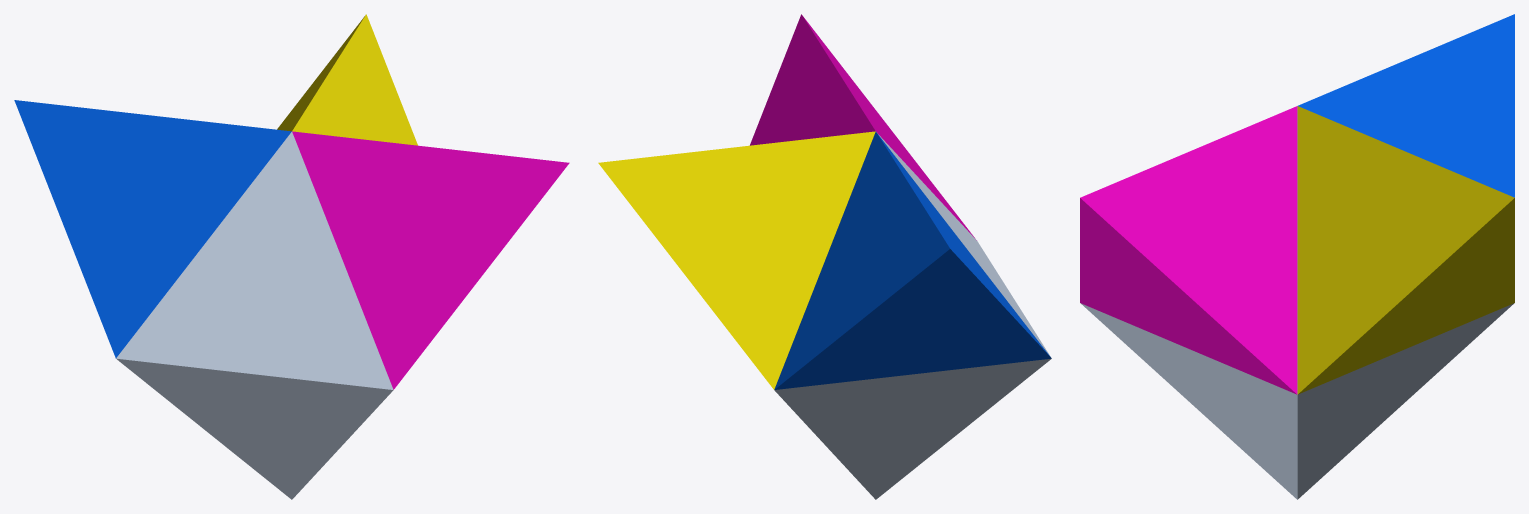
The model's file is octTet_8.glb.
3 views of the same model, side by side, from view 1: azimuth 30°, elevation 25°; view 2: azimuth 150°, elevation 25°; view 3: azimuth 270°, elevation 25° (orthographic). The views are drawn at different scales.
Bounding box in the file's own units: 4 × 4 × 4.
